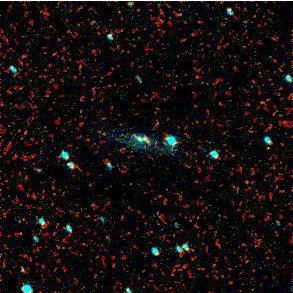star: (131, 122, 161, 152)
